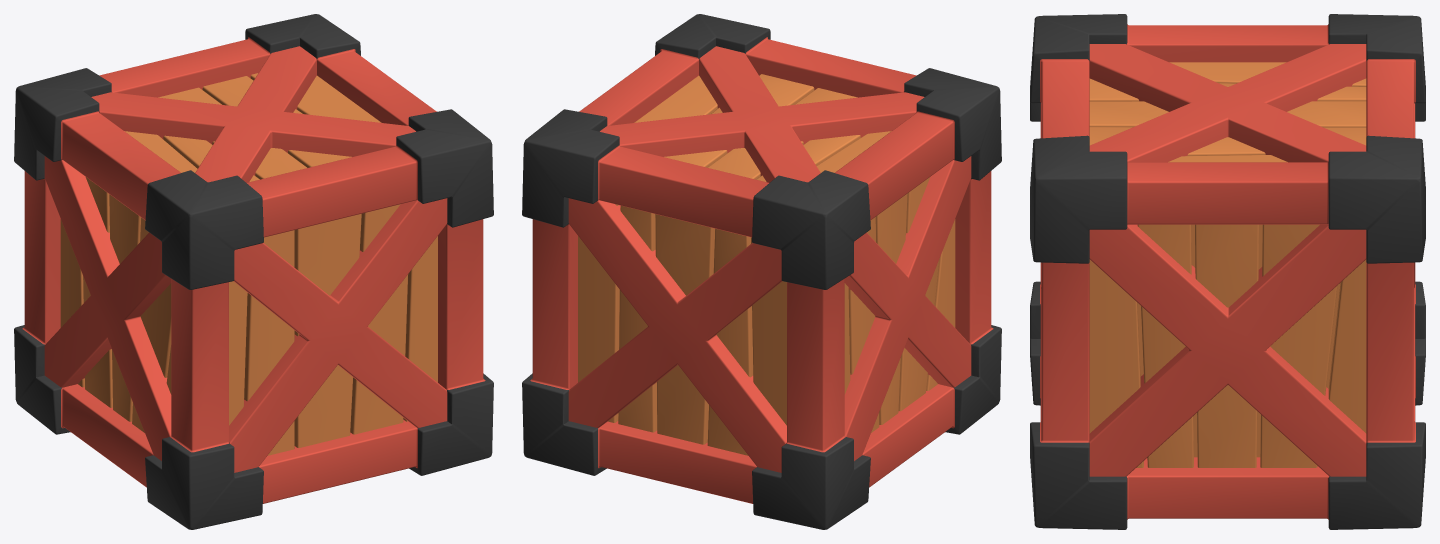
3 views of the same model, side by side, from view 1: azimuth 30°, elevation 25°; view 2: azimuth 150°, elevation 25°; view 3: azimuth 270°, elevation 25° (orthographic). The views are drawn at different scales.
Visible parts, largest first — view 1: Cube; view 2: Cube; view 3: Cube.
Boxes of the visible parts, left/top/right/bottom form: Cube: left=14, top=14, right=493, bottom=529; Cube: left=522, top=14, right=1001, bottom=529; Cube: left=1030, top=14, right=1425, bottom=529.
Size of the model in its own units: 213 by 213 by 213.
